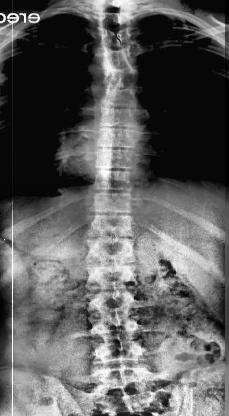Vertebrae: (91, 328, 149, 362), (91, 296, 147, 326), (84, 264, 140, 292), (79, 237, 139, 261), (89, 106, 148, 130), (86, 149, 148, 169), (88, 62, 144, 83), (85, 192, 143, 212), (84, 86, 148, 104), (85, 169, 141, 189), (88, 130, 150, 148), (91, 22, 143, 43), (86, 216, 140, 236), (92, 46, 146, 64), (90, 7, 142, 20)
